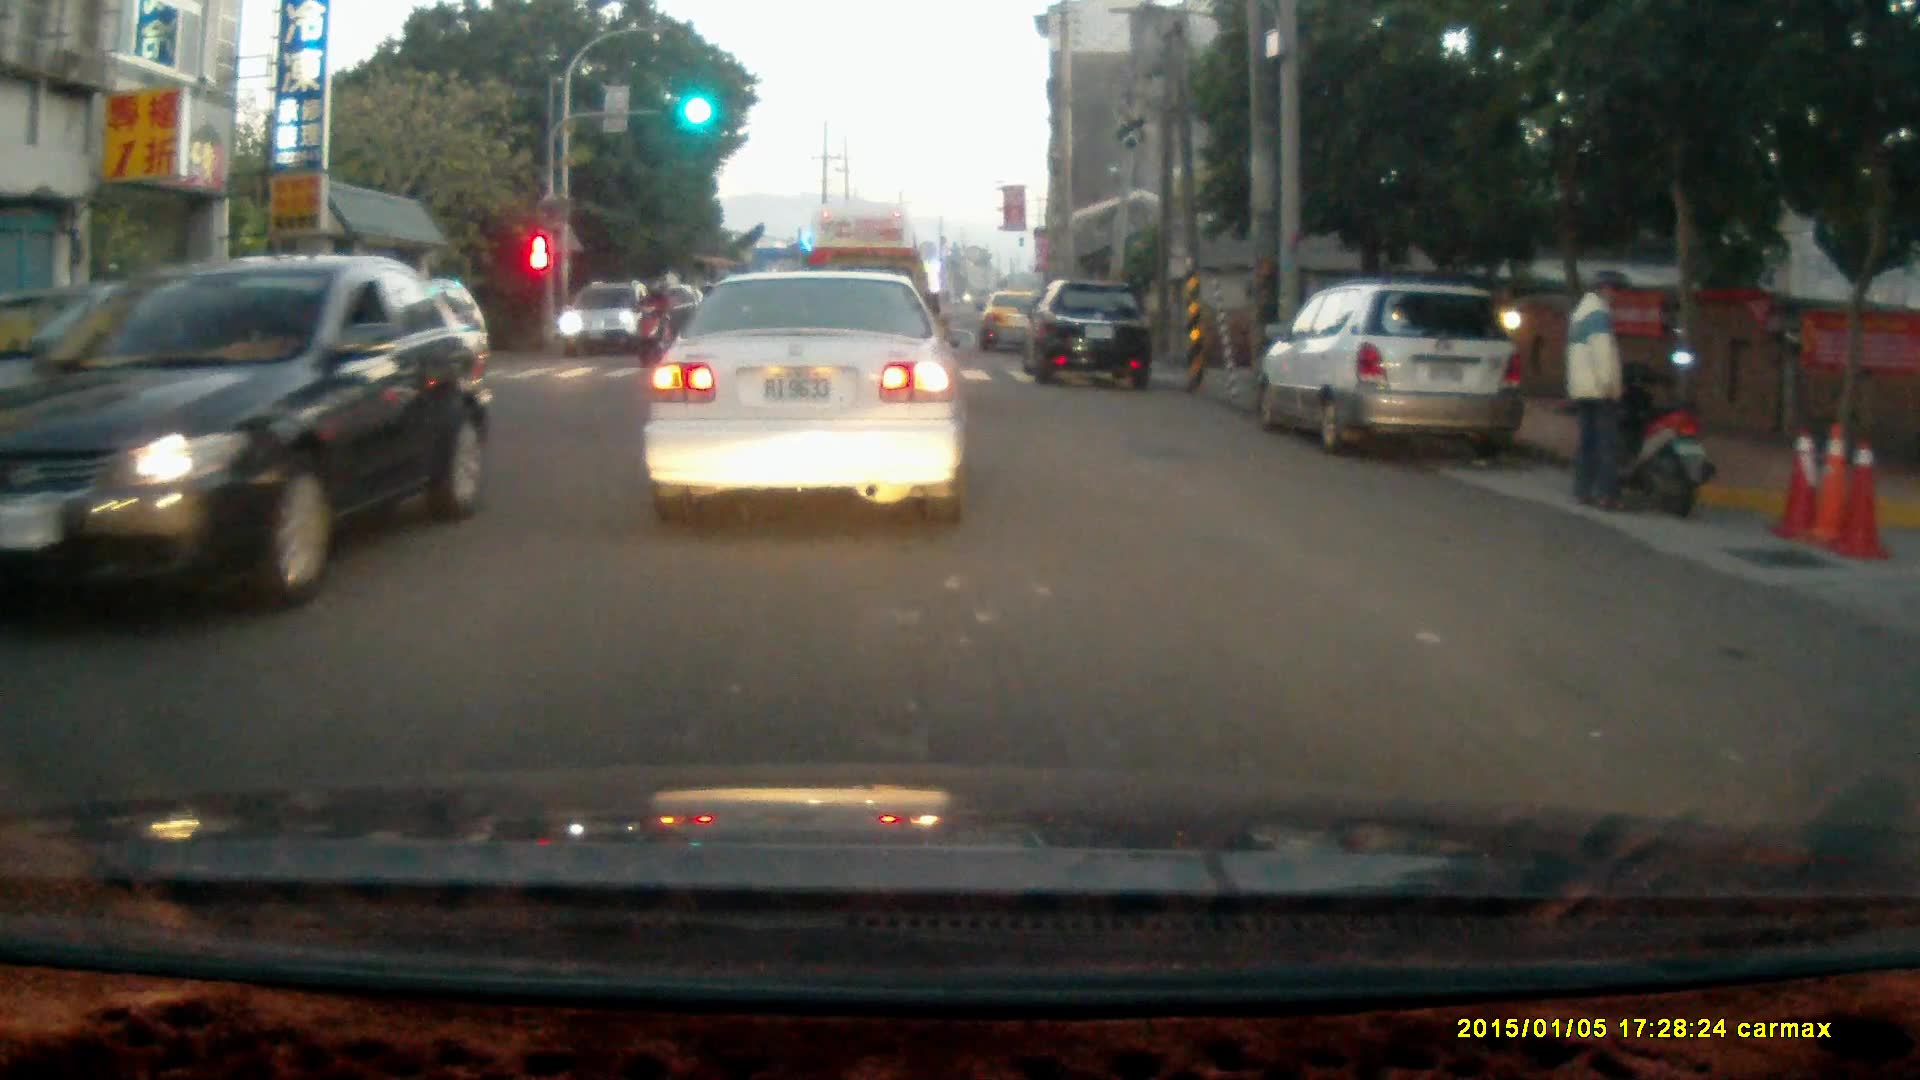pedestrian: (1558, 270, 1634, 518)
rider: (629, 276, 670, 367)
vehicle: (1, 255, 482, 617), (641, 272, 965, 527), (1271, 286, 1528, 467), (807, 204, 930, 369), (1025, 279, 1162, 390), (561, 281, 660, 355), (976, 288, 1070, 360)
